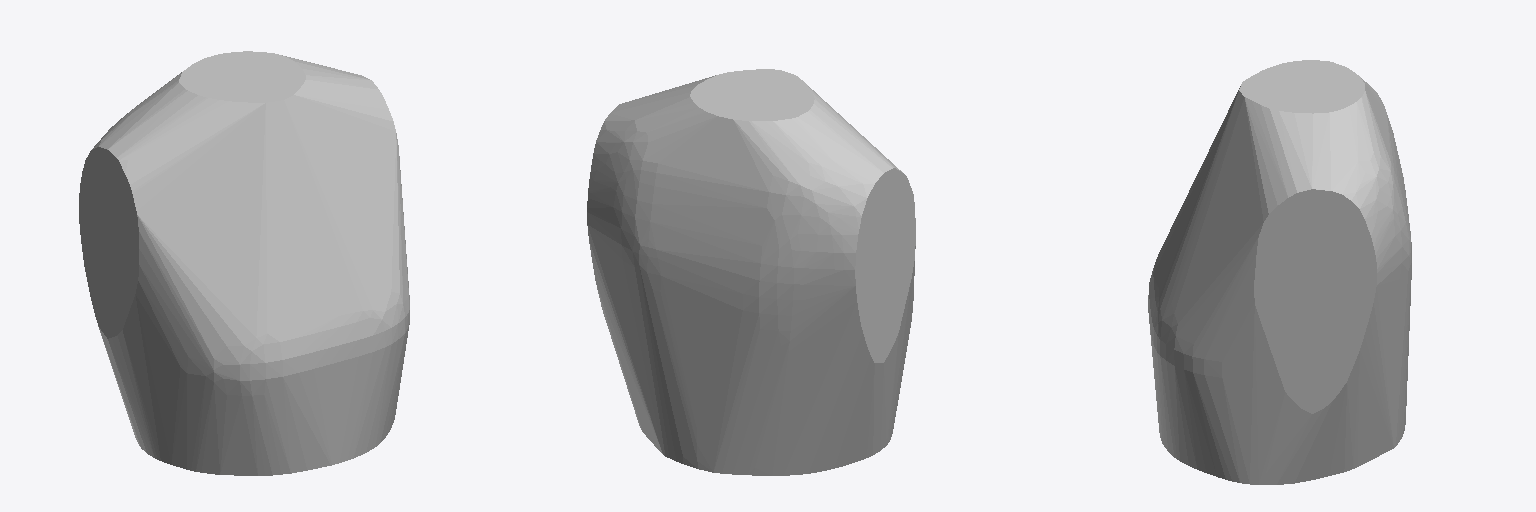
File: woman_collision_10.obj
3 renders of one model, left to right at view 1: azimuth 30°, elevation 25°; view 2: azimuth 150°, elevation 25°; view 3: azimuth 270°, elevation 25°, orthographic.
Size of the model in its own units: 31.16 by 38.1 by 26.95.